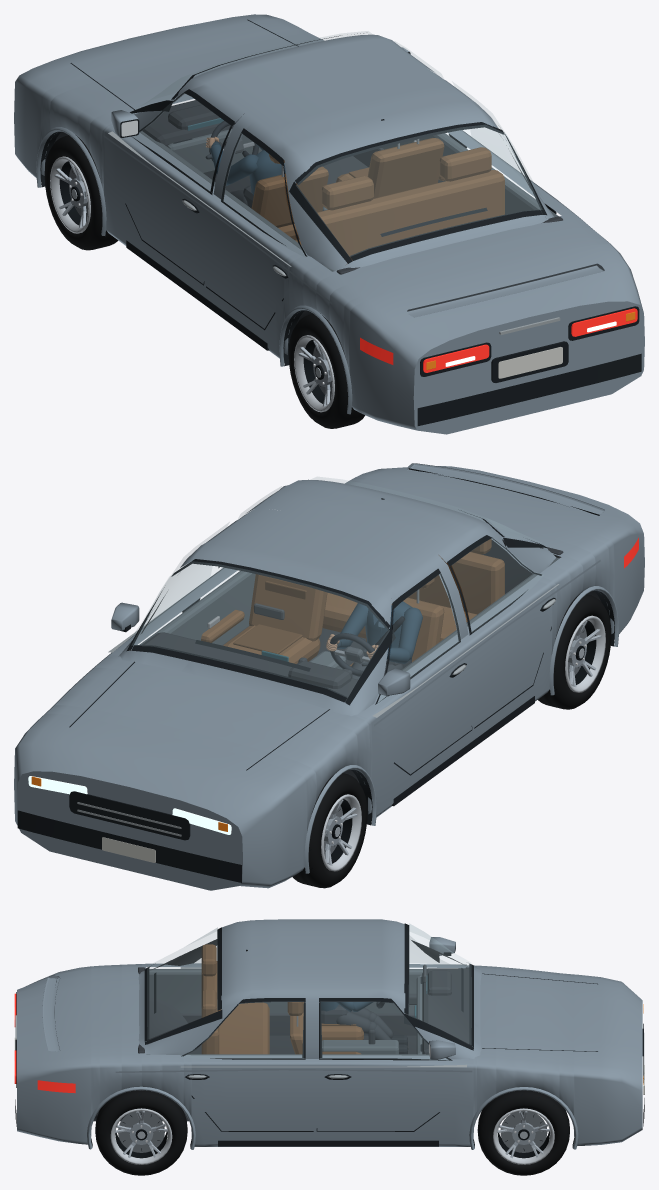
Rendered from sedan.glb.
3 renders of one model, top to bottom at view 1: azimuth 30°, elevation 25°; view 2: azimuth 150°, elevation 25°; view 3: azimuth 270°, elevation 25°, orthographic. The views are drawn at different scales.
Visible parts, largest first — view 1: body, glass, cabin_interior, trim, wheel_rl_rubber, wheel_fl_rubber, lights_red, wheel_fl_wheel_metal, wheel_rl_wheel_metal, plate, alloy; view 2: body, glass, cabin_interior, trim, wheel_fl_rubber, wheel_rl_rubber, wheel_rl_wheel_metal, wheel_fl_wheel_metal, alloy, lights_white, steering_wheel_cabin_interior, driver_shoulder_l_cabin_interior (+1 smaller); view 3: body, glass, cabin_interior, trim, wheel_fr_rubber, wheel_rr_rubber, wheel_rr_wheel_metal, wheel_fr_wheel_metal, alloy, lights_red, wheel_rr_wheel_recess, wheel_fr_wheel_recess.
Part boxes in pixels (<box>): body: <box>14,14,644,434</box>; glass: <box>132,31,542,256</box>; cabin_interior: <box>54,100,562,323</box>; trim: <box>40,19,641,425</box>; wheel_rl_rubber: <box>288,313,364,428</box>; wheel_fl_rubber: <box>44,135,118,250</box>; lights_red: <box>360,308,637,372</box>; wheel_fl_wheel_metal: <box>50,156,90,233</box>; wheel_rl_wheel_metal: <box>294,335,334,412</box>; plate: <box>498,347,562,378</box>; alloy: <box>108,131,560,334</box>; body: <box>14,463,644,890</box>; glass: <box>129,477,543,703</box>; cabin_interior: <box>130,539,600,783</box>; trim: <box>17,468,614,882</box>; wheel_fl_rubber: <box>292,773,367,888</box>; wheel_rl_rubber: <box>538,594,611,709</box>; wheel_rl_wheel_metal: <box>565,615,605,692</box>; wheel_fl_wheel_metal: <box>321,794,361,871</box>; alloy: <box>77,584,558,836</box>; lights_white: <box>28,776,231,834</box>; steering_wheel_cabin_interior: <box>330,633,374,676</box>; driver_shoulder_l_cabin_interior: <box>398,607,422,660</box>; body: <box>17,919,642,1149</box>; glass: <box>147,923,471,1060</box>; cabin_interior: <box>93,939,470,1121</box>; trim: <box>15,923,644,1147</box>; wheel_fr_rubber: <box>477,1090,569,1175</box>; wheel_rr_rubber: <box>95,1090,187,1175</box>; wheel_rr_wheel_metal: <box>110,1108,172,1164</box>; wheel_fr_wheel_metal: <box>493,1108,554,1164</box>; alloy: <box>15,964,644,1079</box>; lights_red: <box>14,993,75,1093</box>; wheel_rr_wheel_recess: <box>95,1092,186,1162</box>; wheel_fr_wheel_recess: <box>479,1092,568,1157</box>.
Size of the model in its own units: 1.94 by 1.45 by 4.65.
